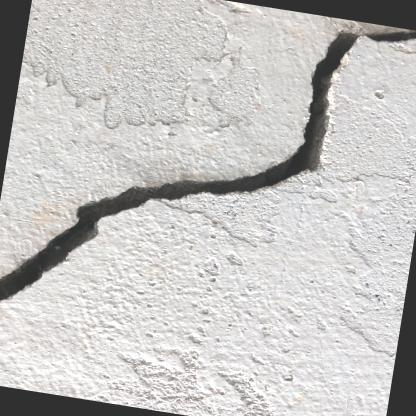crack: (0, 28, 416, 304)
